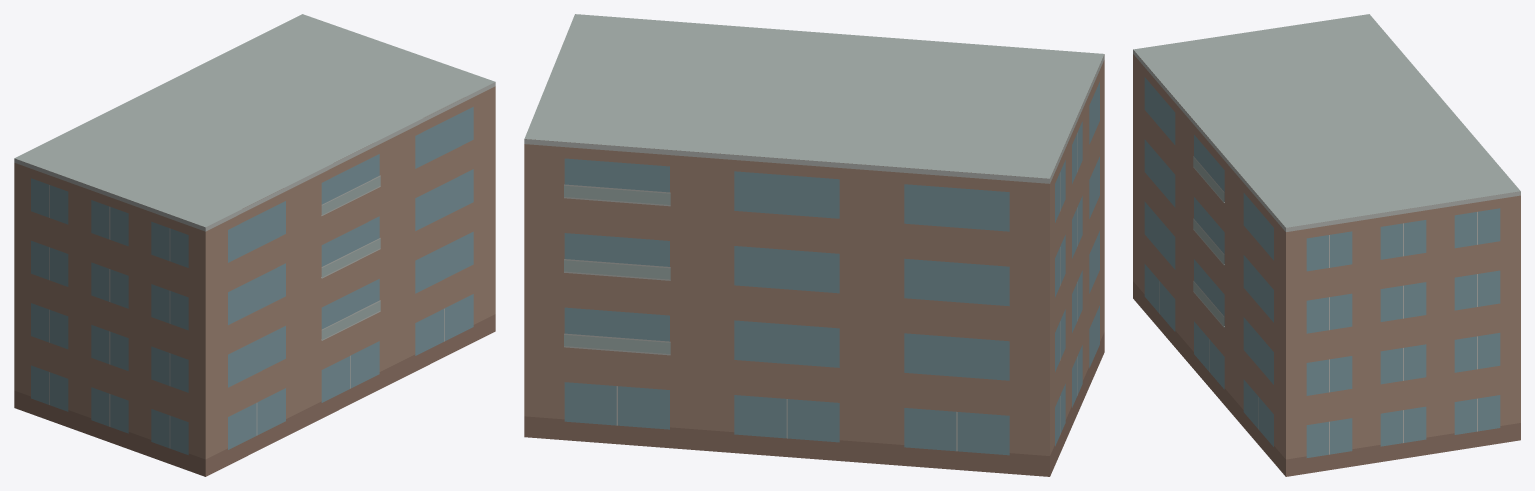
Rendered from survey-upis-32828134.glb.
3 views of the same model, side by side, from view 1: azimuth 30°, elevation 25°; view 2: azimuth 150°, elevation 25°; view 3: azimuth 270°, elevation 25° (orthographic). The views are drawn at different scales.
Parts seen in each view (by area): view 1: survey-upis-32828134.tmp; view 2: survey-upis-32828134.tmp; view 3: survey-upis-32828134.tmp.
Boxes of the visible parts, x1,y1,x2,y2 form: survey-upis-32828134.tmp: (14,14,495,476); survey-upis-32828134.tmp: (524,14,1104,476); survey-upis-32828134.tmp: (1133,14,1520,476).
Bounding box in the file's own units: 25.98 × 14.1 × 19.91.
